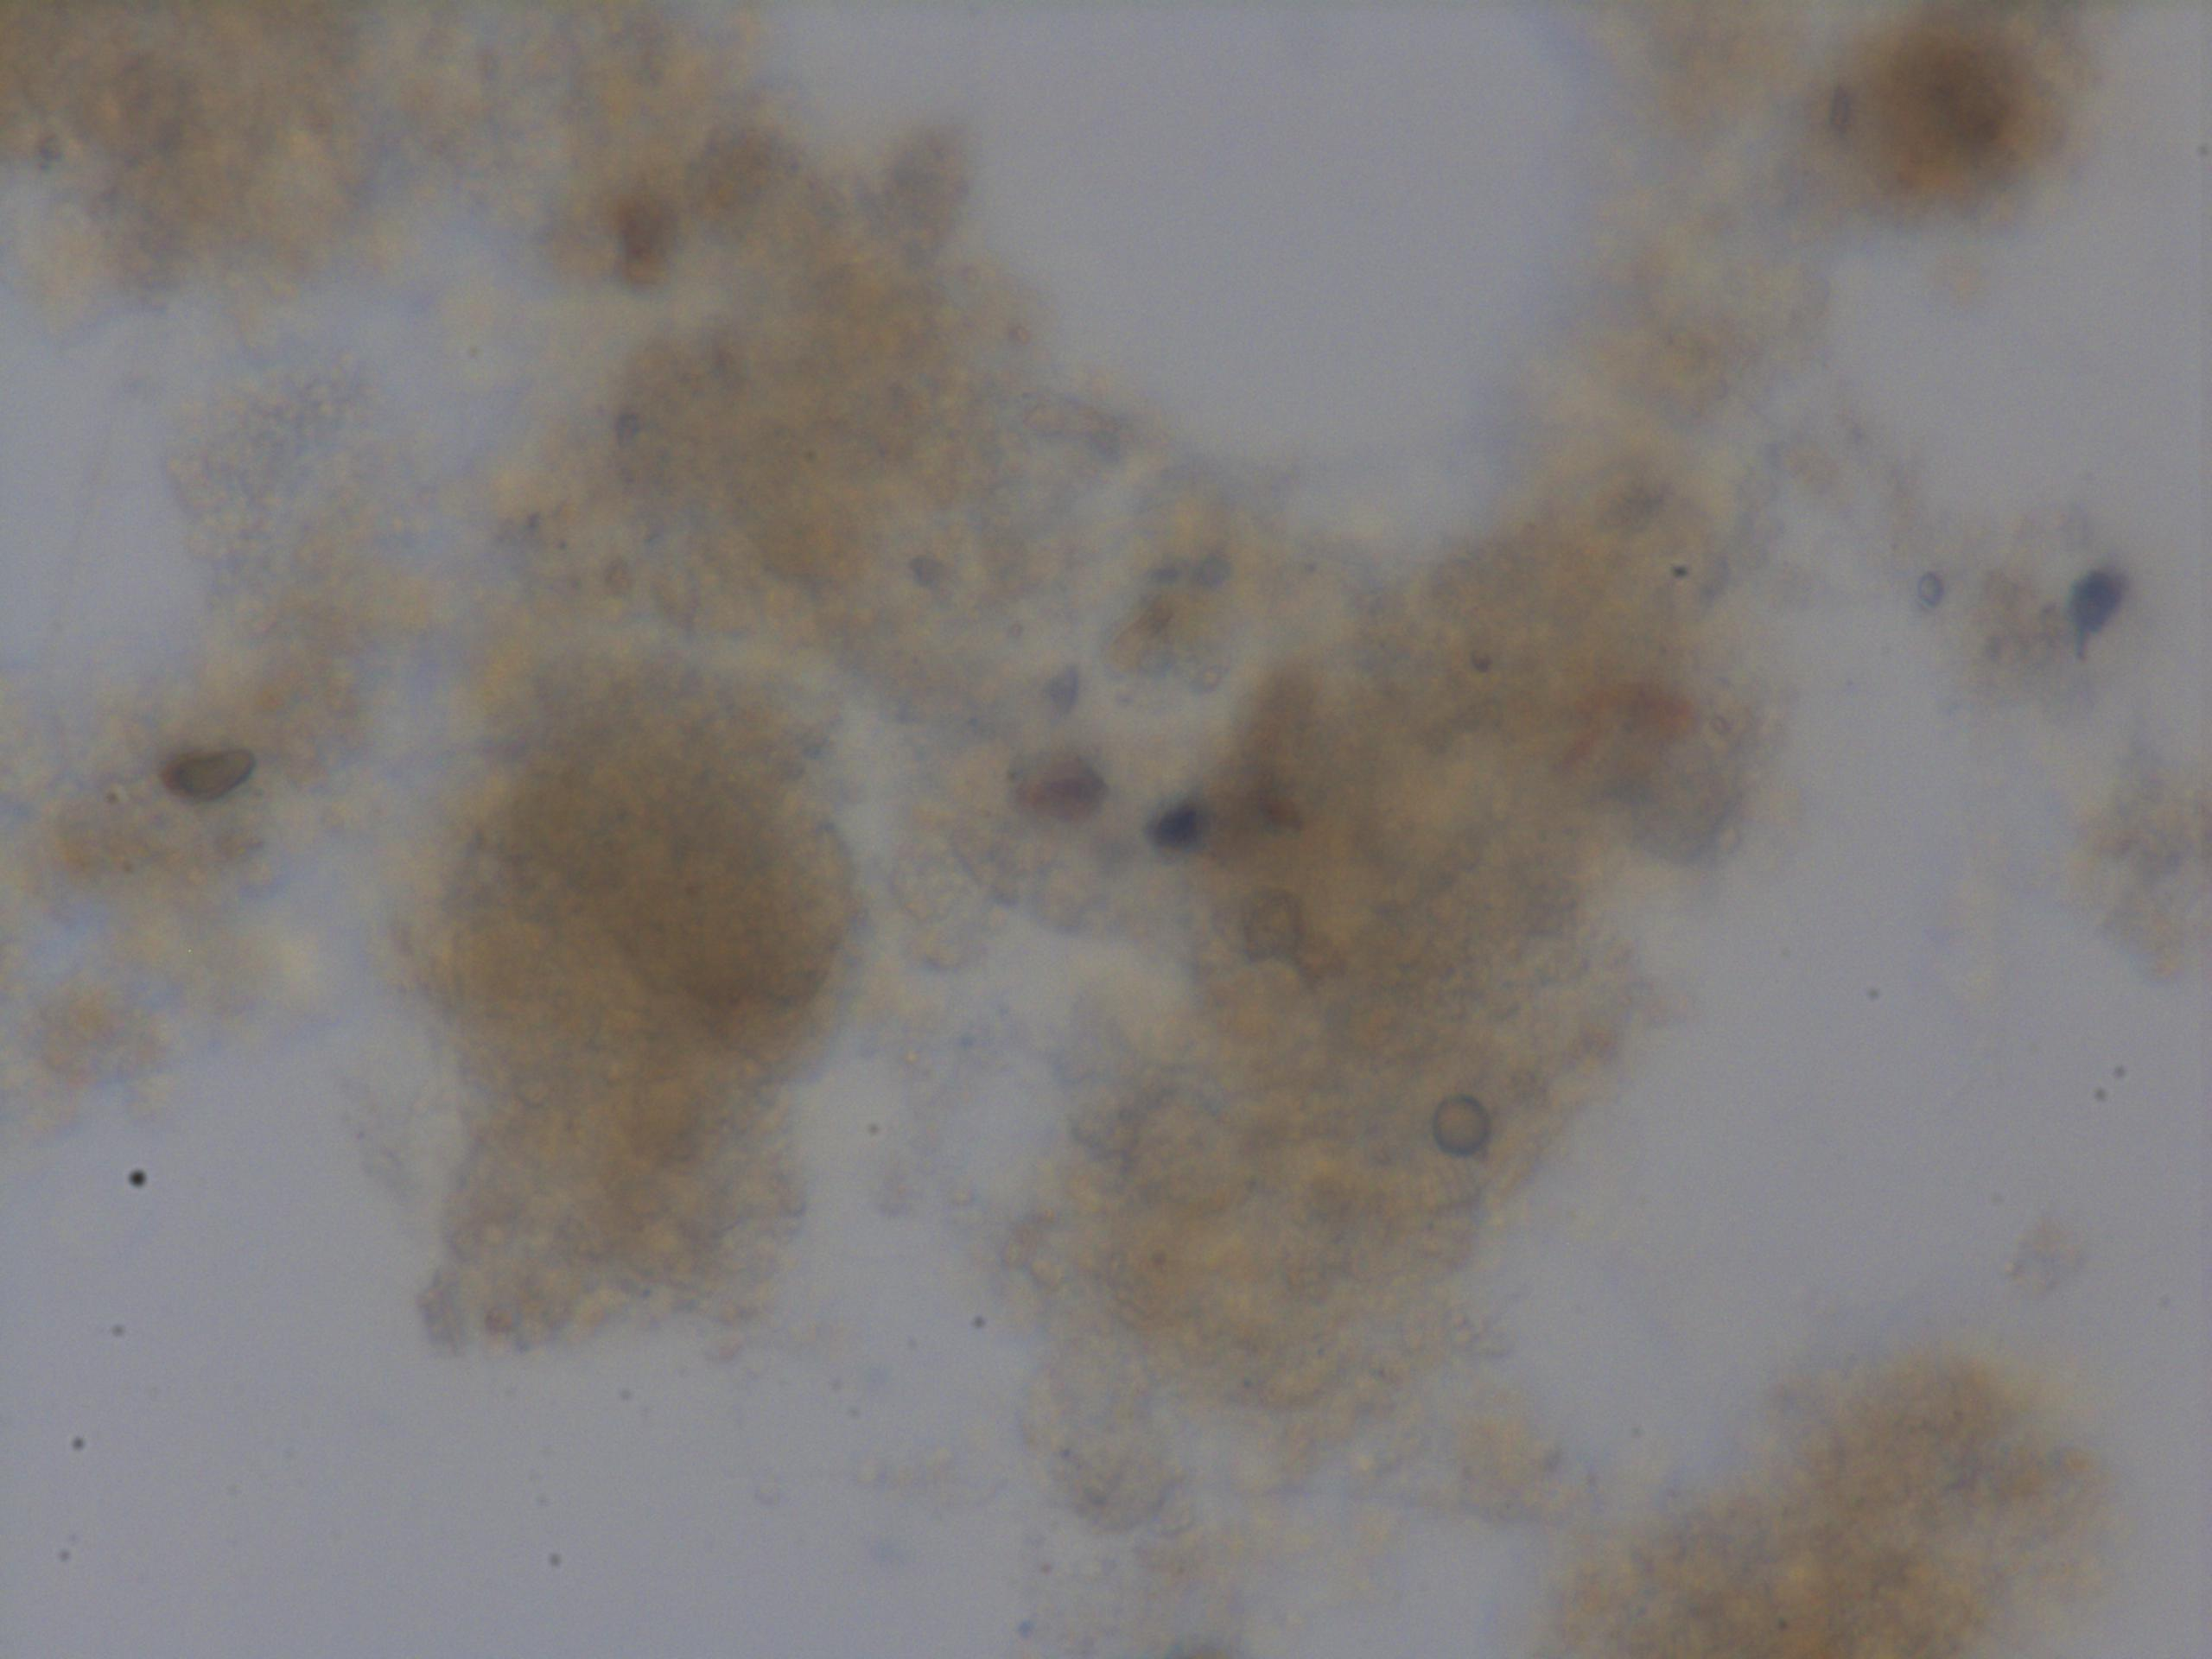open_floc: (404, 94, 1778, 1478)
